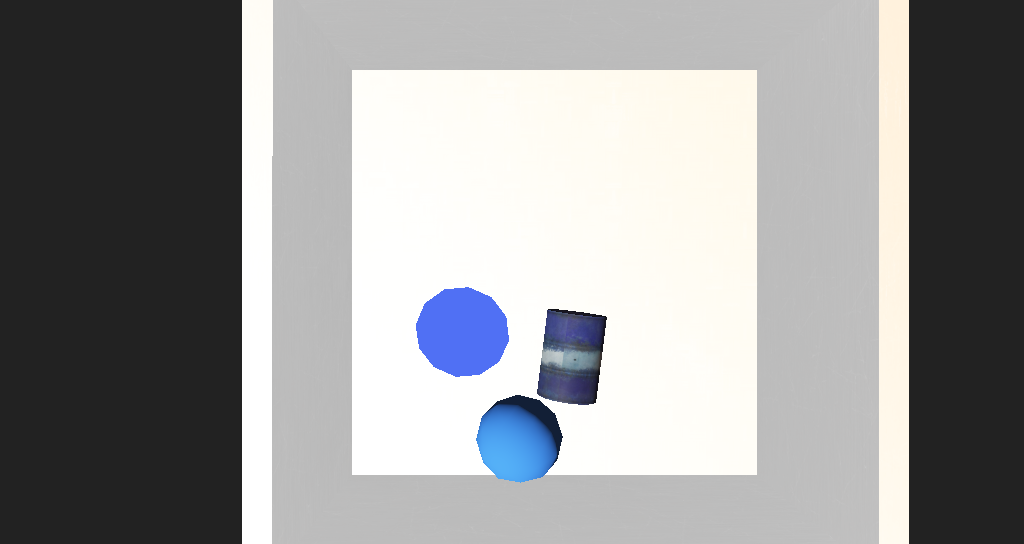cone: (492, 289, 546, 341)
cylinder: (394, 265, 482, 327)
sphere: (445, 329, 512, 377)
